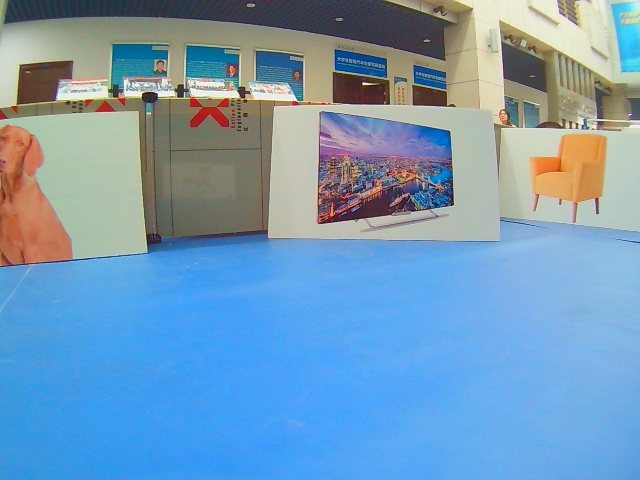sofa: (499, 126, 640, 234)
tv: (268, 105, 503, 243)
